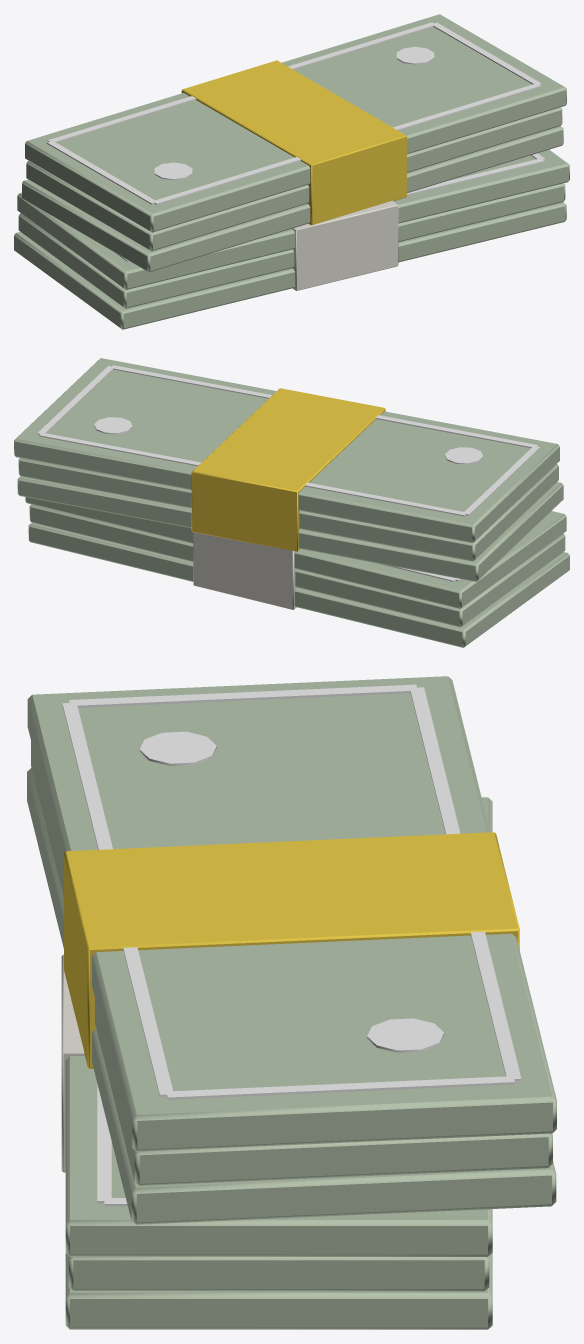
The model's file is SM_Loot_Cash.fbx.
3 views of the same model, one above another, from view 1: azimuth 30°, elevation 25°; view 2: azimuth 150°, elevation 25°; view 3: azimuth 270°, elevation 25° (orthographic). The views are drawn at different scales.
Visible parts, largest first — view 1: SM_Loot_Cash_1; view 2: SM_Loot_Cash_1; view 3: SM_Loot_Cash_1.
Boxes of the visible parts, x1=… form: SM_Loot_Cash_1: x1=14, y1=14, x2=569, y2=329; SM_Loot_Cash_1: x1=14, y1=358, x2=569, y2=647; SM_Loot_Cash_1: x1=27, y1=676, x2=556, y2=1329.
Bounding box in the file's own units: 16.31 × 4.09 × 8.19.
